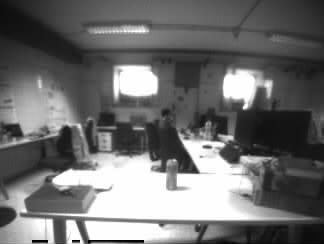Tin can: (166, 159, 178, 189)
